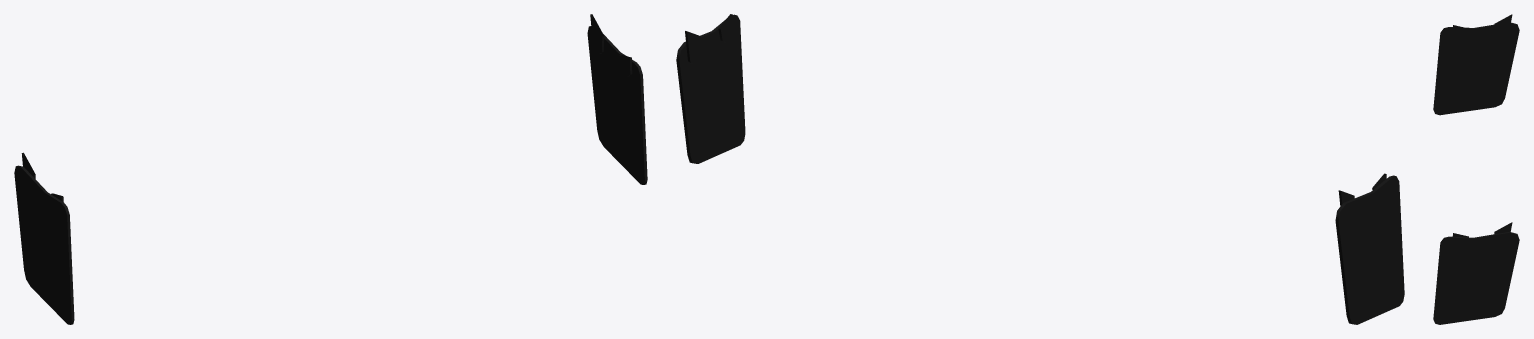
File: RWB_Spoiler_03_Trim.fbx
The picture shows the model from 3 angles, left to right: view 1: azimuth 30°, elevation 25°; view 2: azimuth 150°, elevation 25°; view 3: azimuth 270°, elevation 25°; orthographic projection. The views are drawn at different scales.
Parts seen in each view (by area): view 1: RWB_Spoiler_03_Trim; view 2: RWB_Spoiler_03_Trim; view 3: RWB_Spoiler_03_Trim.
Part boxes in pixels (x1=…): RWB_Spoiler_03_Trim: x1=14, y1=14, x2=647, y2=324; RWB_Spoiler_03_Trim: x1=676, y1=14, x2=1404, y2=324; RWB_Spoiler_03_Trim: x1=1433, y1=14, x2=1519, y2=324.
Size of the model in its own units: 107 by 23.99 by 18.5.
